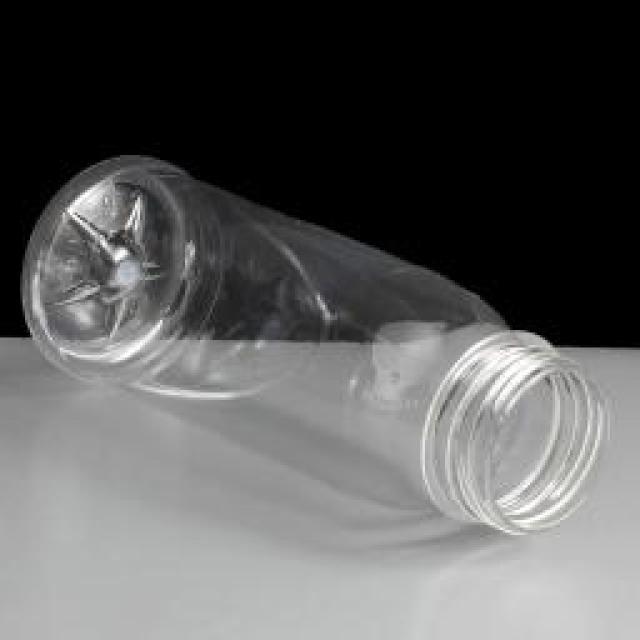bottle: (27, 155, 607, 542)
